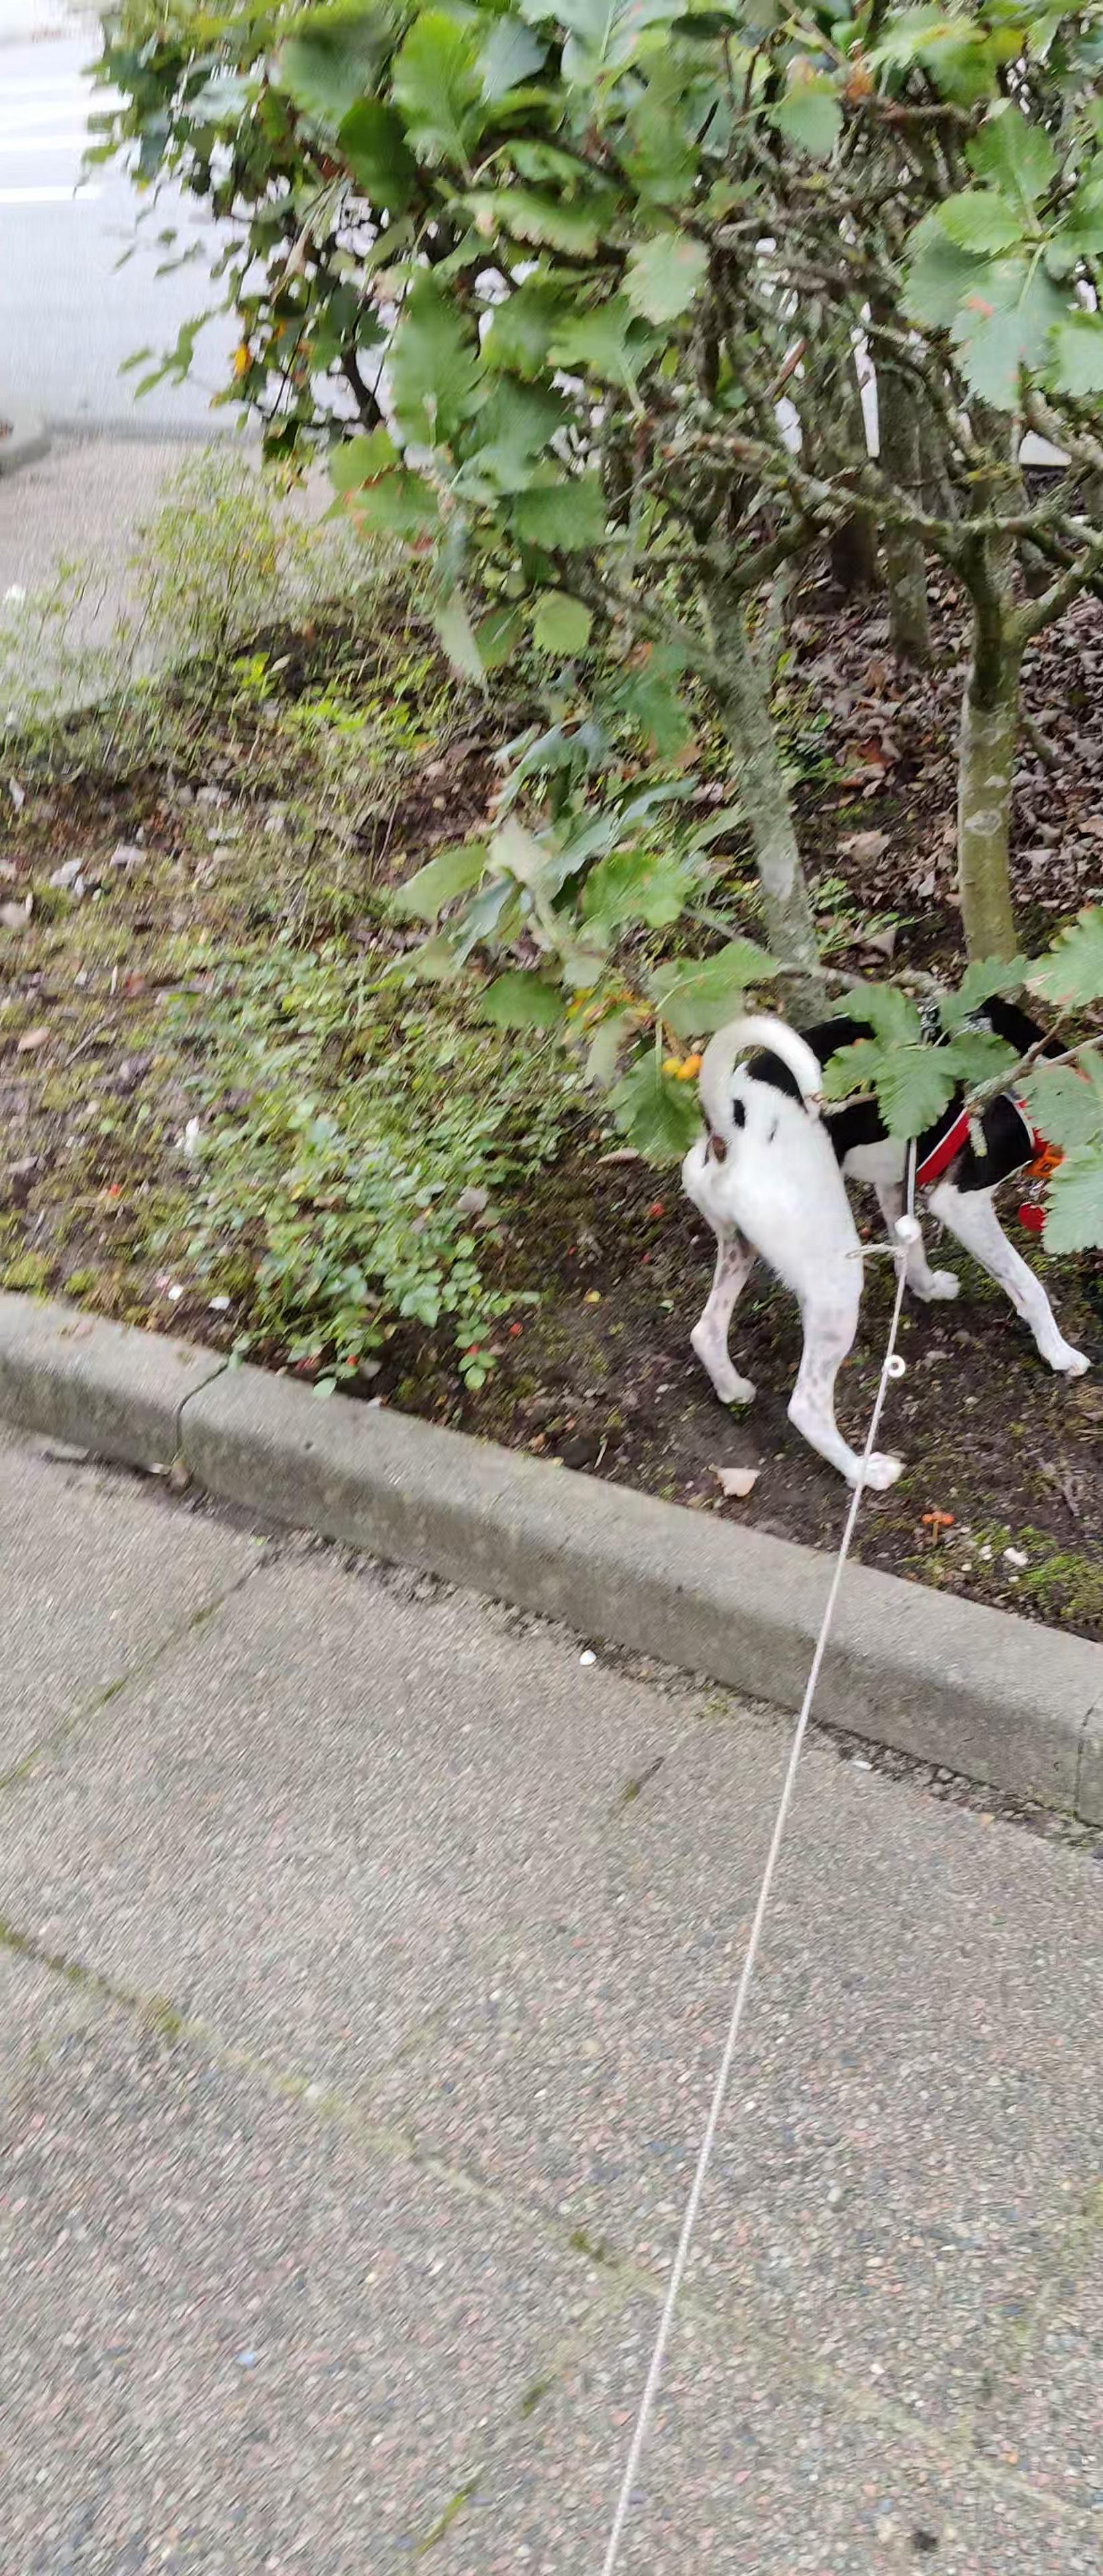Dog: (677, 971, 1103, 1497)
